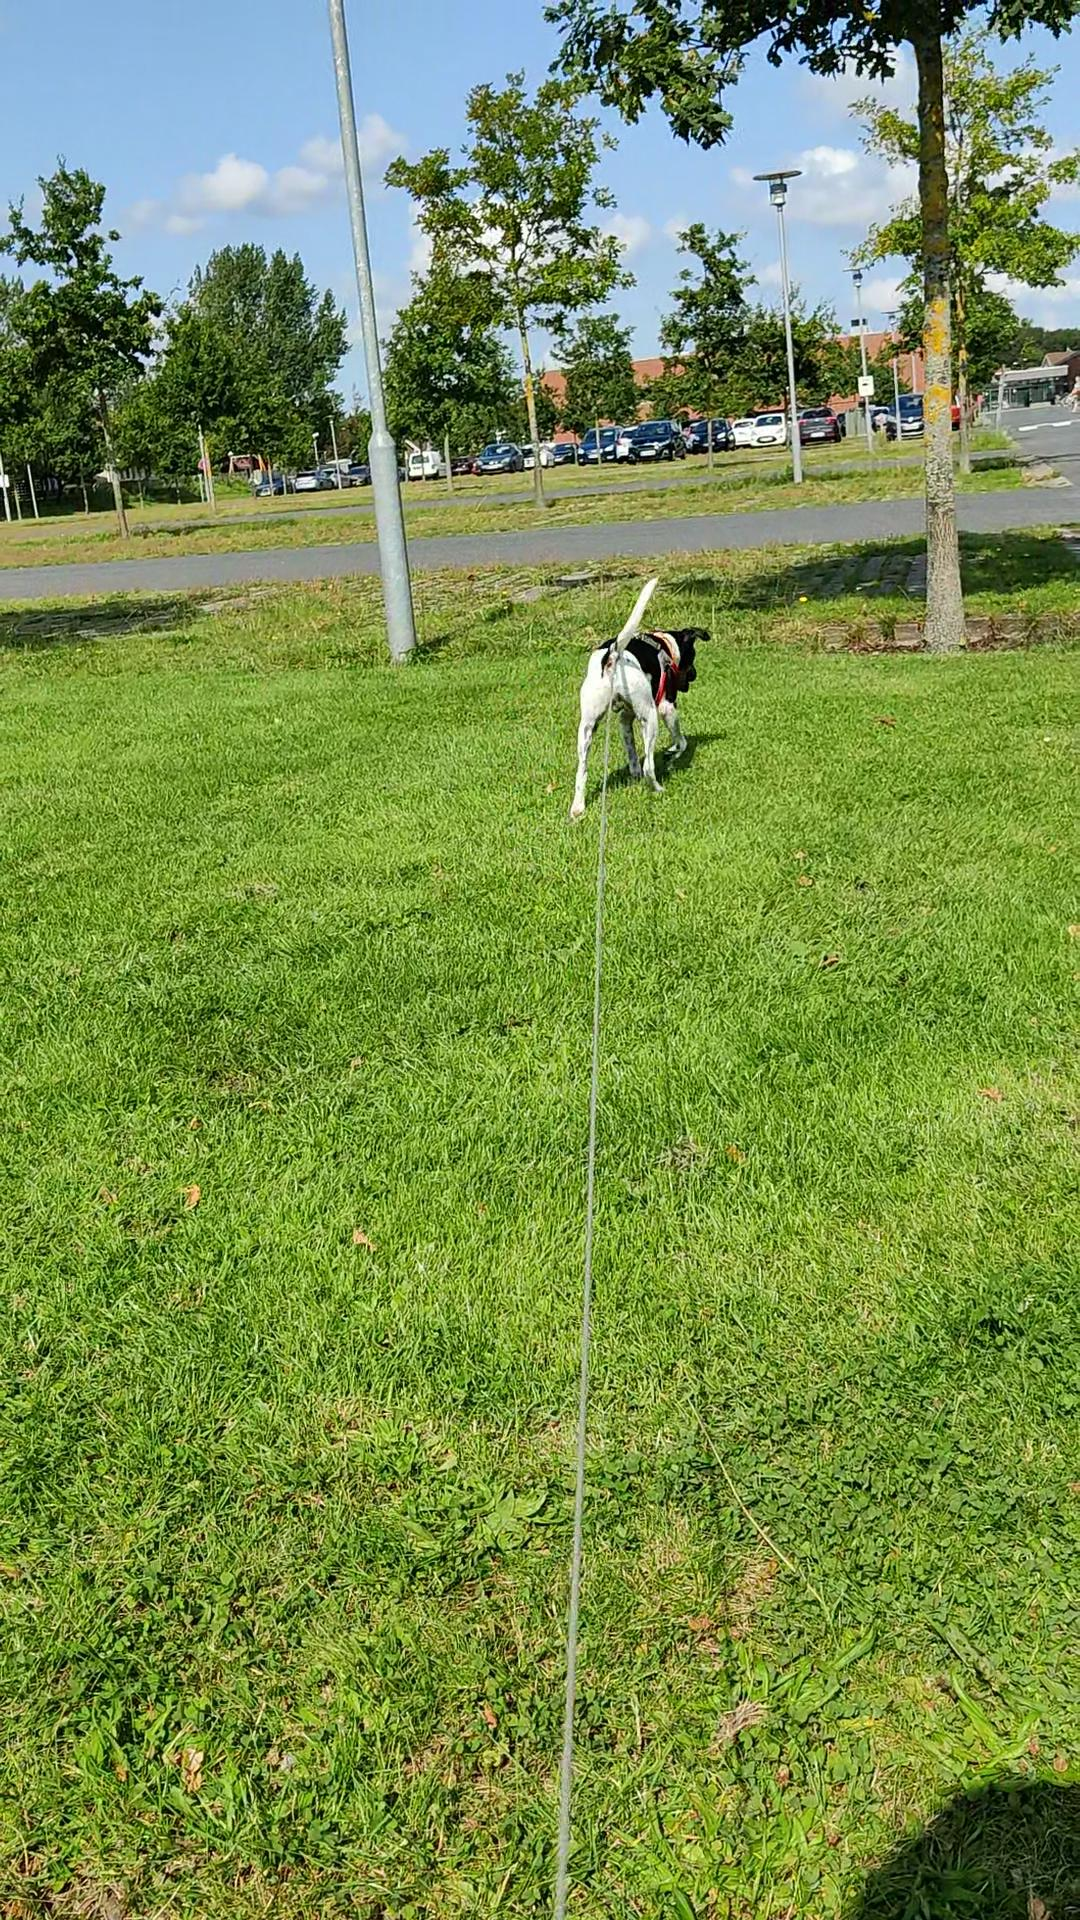Dog: (541, 562, 738, 822)
